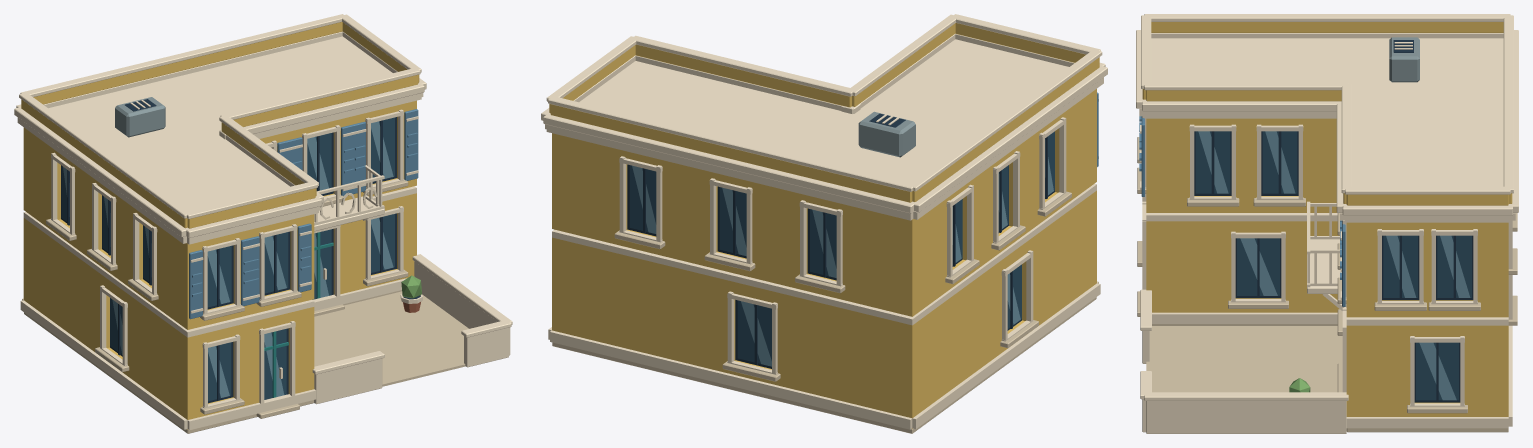
File: courtyard_duplex.glb
3 renders of one model, left to right at view 1: azimuth 30°, elevation 25°; view 2: azimuth 150°, elevation 25°; view 3: azimuth 270°, elevation 25°, orthographic. The views are drawn at different scales.
Visible parts, largest first — view 1: CourtyardDuplex_StaticMesh; view 2: CourtyardDuplex_StaticMesh; view 3: CourtyardDuplex_StaticMesh.
Boxes of the visible parts, <box> form: CourtyardDuplex_StaticMesh: <box>14,14,512,433</box>; CourtyardDuplex_StaticMesh: <box>541,14,1107,433</box>; CourtyardDuplex_StaticMesh: <box>1136,14,1518,433</box>.
Size of the model in its own units: 11.13 by 7.21 by 9.93.
